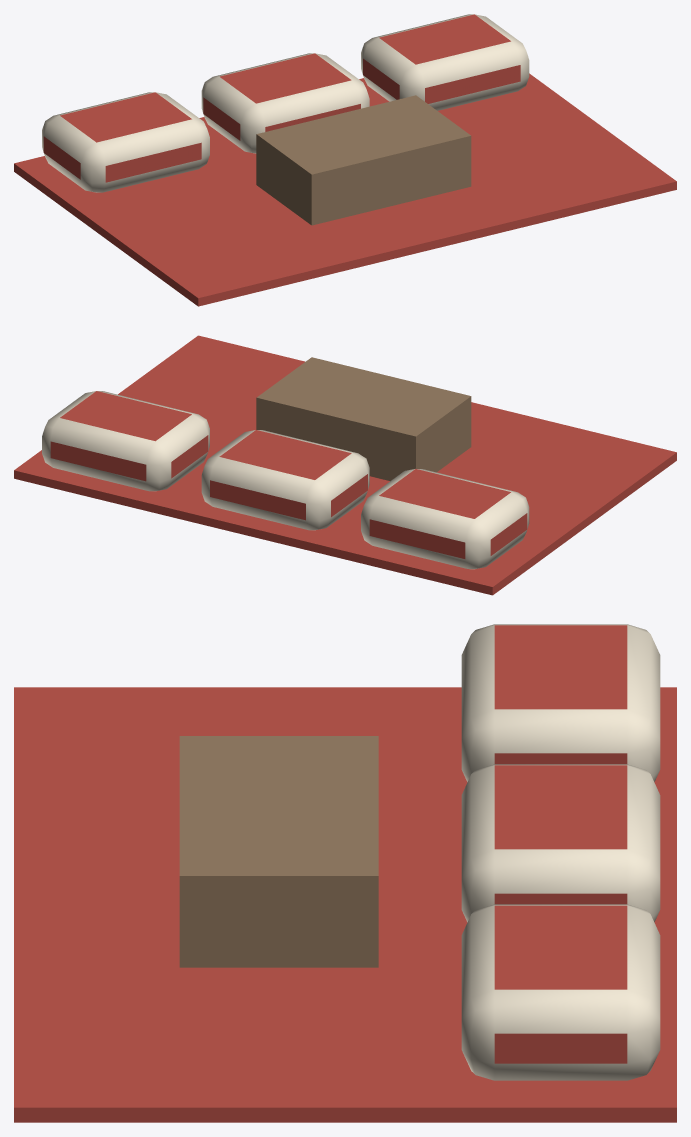
File: SM_LoungeSeat.fbx
3 views of the same model, one above another, from view 1: azimuth 30°, elevation 25°; view 2: azimuth 150°, elevation 25°; view 3: azimuth 270°, elevation 25° (orthographic). The views are drawn at different scales.
Parts seen in each view (by area): view 1: SM_LoungeSeat; view 2: SM_LoungeSeat; view 3: SM_LoungeSeat.
Boxes of the visible parts, x1,y1,x2,y2 form: SM_LoungeSeat: (14,14,676,306); SM_LoungeSeat: (14,335,676,595); SM_LoungeSeat: (14,624,676,1122).
Size of the model in its own units: 300 by 35.5 by 200.
